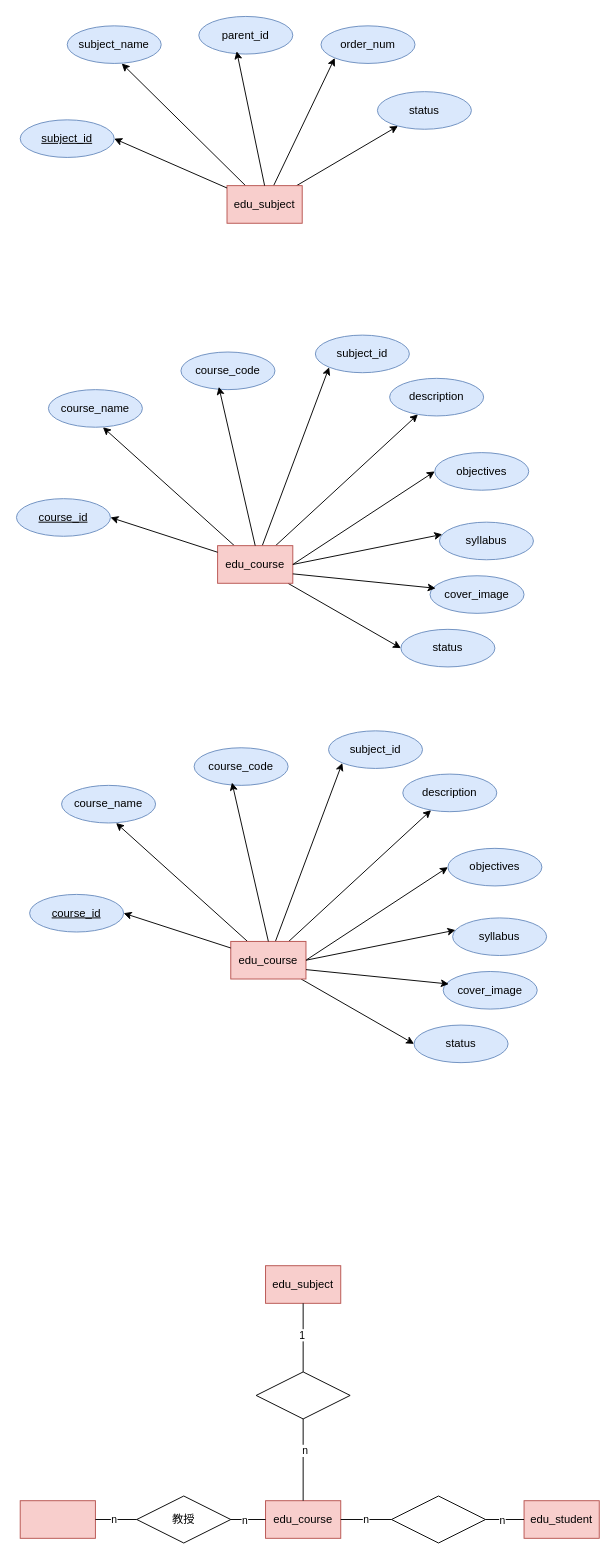
Some shapes in this 616 by 1559 pixel diagram are drawn without their labels. The box of each missing label's shape, as (x1, y1, x2, y2) in pixels:
edu_teacher: (19, 1500, 95, 1538)
包含: (255, 1371, 350, 1419)
学习: (391, 1495, 486, 1543)
